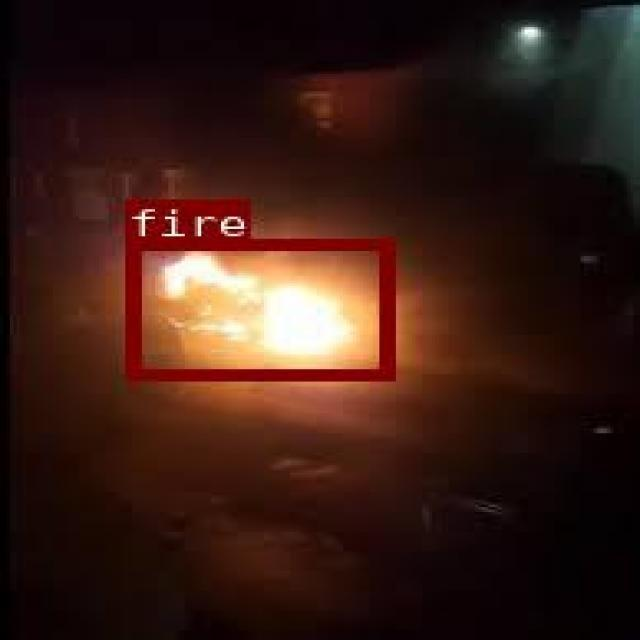fire: (124, 238, 390, 377)
